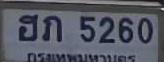0: (137, 17, 153, 44)
2: (98, 16, 115, 44)
5: (79, 15, 95, 42)
6: (118, 16, 134, 44)
A32: (41, 14, 62, 43)
A44: (18, 14, 38, 42)
